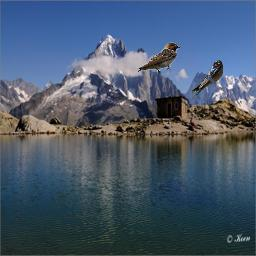Swallow: (136, 42, 180, 74), (191, 60, 223, 101)
